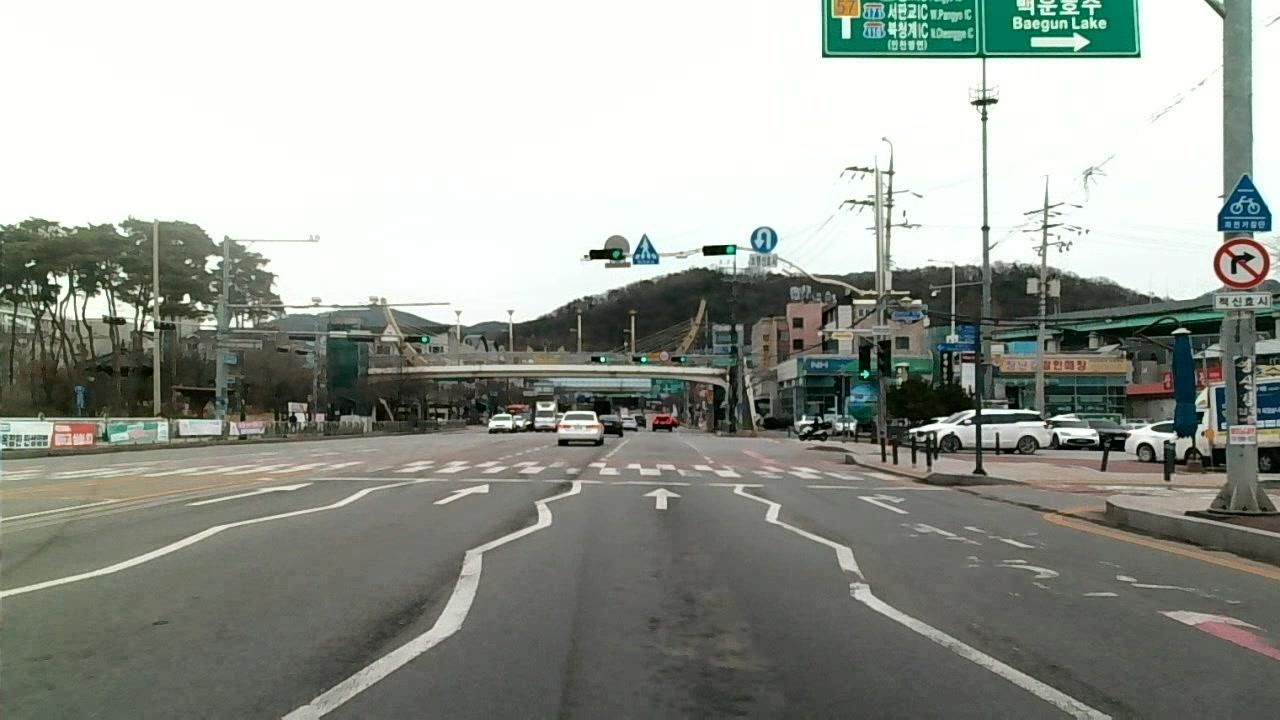banner: (331, 599, 419, 670), (1044, 666, 1128, 720)
